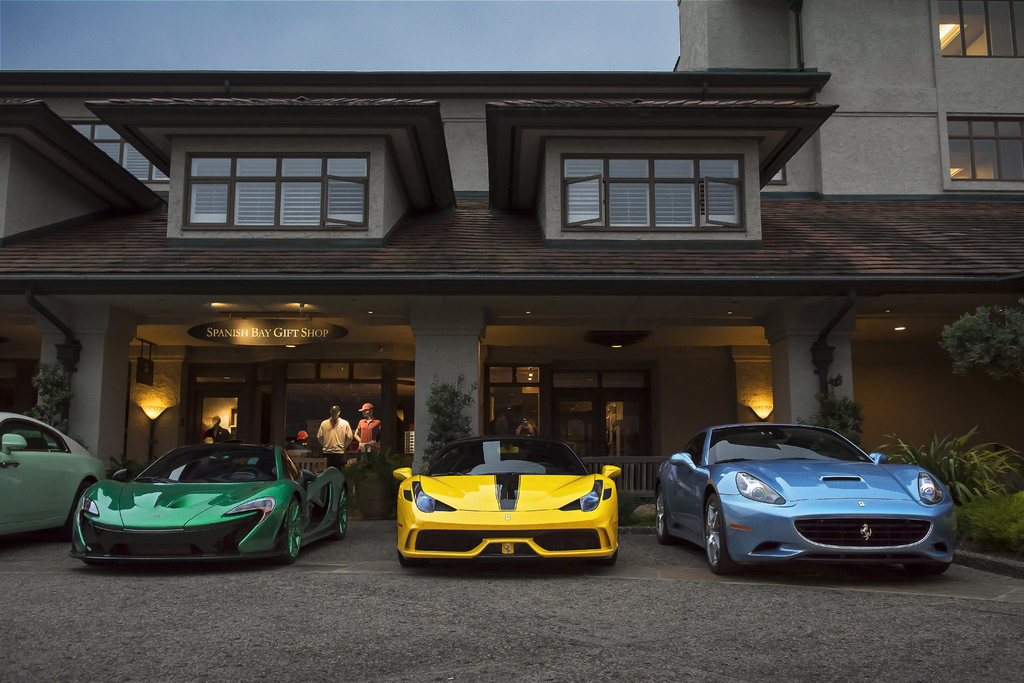cars: (654, 417, 953, 583), (63, 439, 351, 569), (383, 427, 619, 569), (0, 407, 116, 550)
